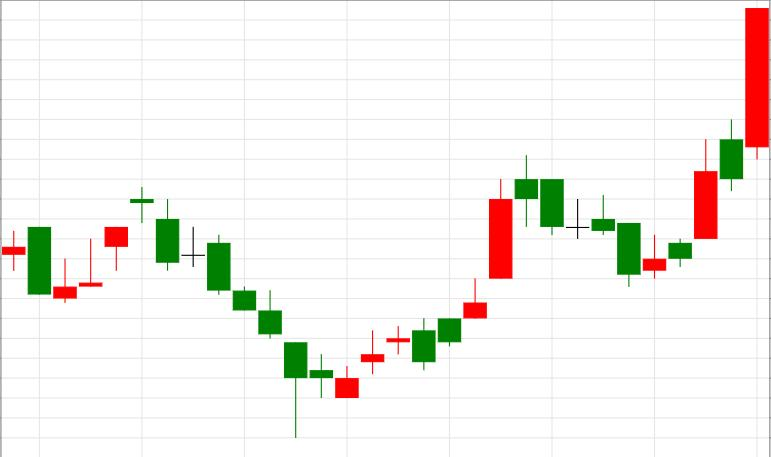evening_star_fall: (53, 188, 179, 303)
hammer_rise: (131, 187, 307, 438)
